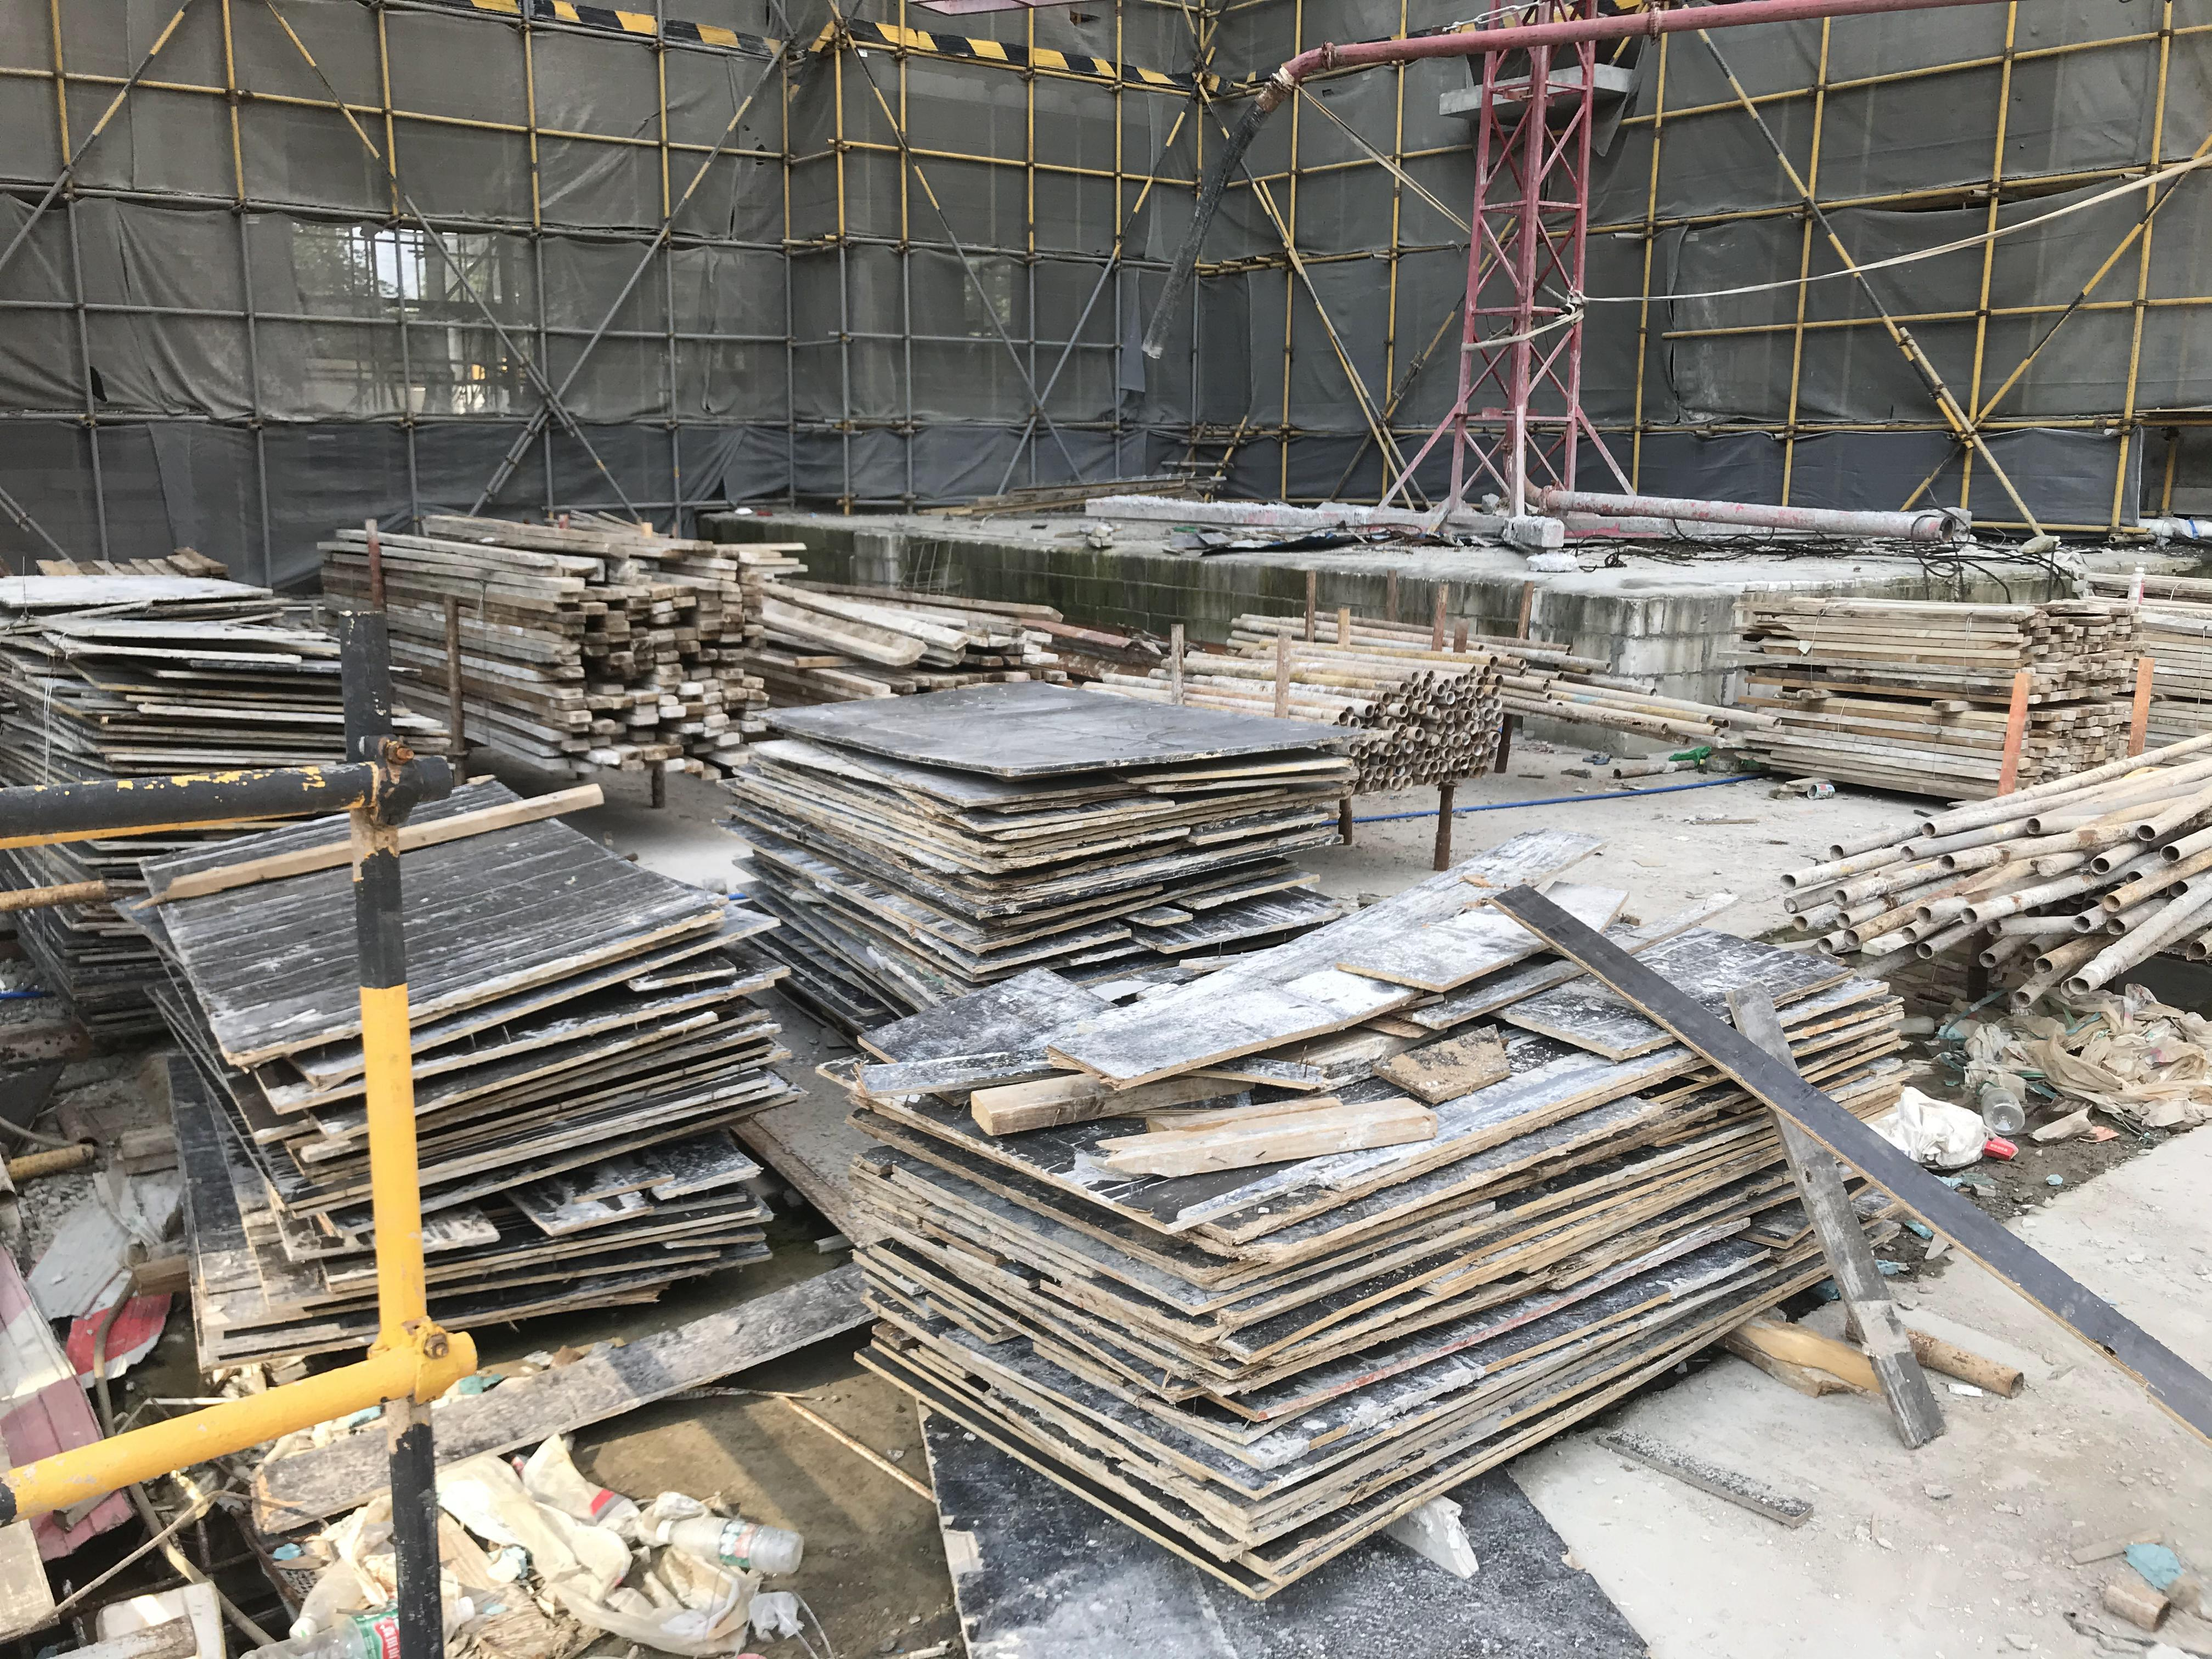board: (855, 894, 1898, 1595), (139, 782, 775, 1349), (733, 685, 1341, 1035), (0, 579, 350, 781)
scaffold: (1148, 612, 1505, 786)
wood: (327, 514, 763, 772), (1745, 598, 2139, 800), (768, 580, 1069, 690)
